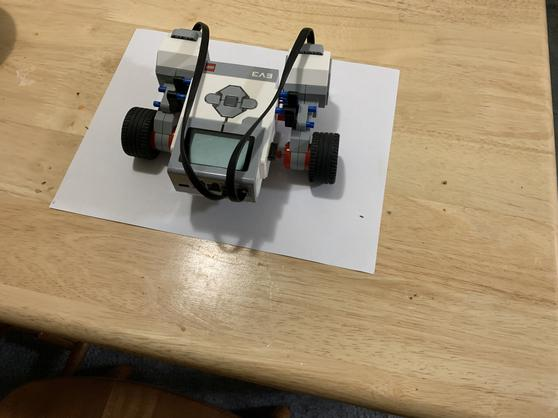robot: (118, 14, 359, 213)
